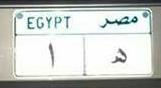1: (45, 41, 57, 71)
haa: (107, 45, 128, 67)
